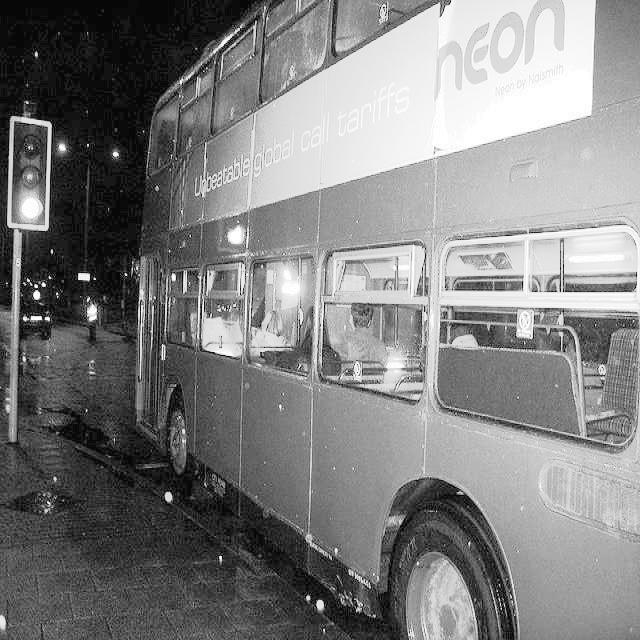Bus: (147, 17, 640, 640)
